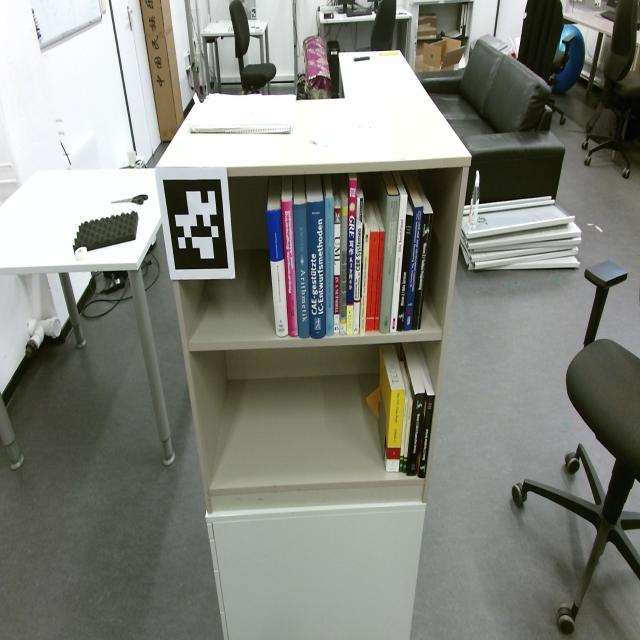Book Spine: (266, 208, 289, 336), (379, 194, 400, 333), (307, 199, 326, 339), (389, 194, 408, 333), (404, 206, 424, 330), (412, 212, 433, 330), (281, 198, 298, 336), (294, 202, 310, 338), (396, 215, 413, 331), (346, 179, 357, 334), (386, 389, 405, 472), (407, 392, 425, 476), (353, 197, 364, 333), (366, 231, 380, 331), (419, 395, 435, 478), (325, 197, 334, 336), (339, 197, 348, 334), (374, 231, 385, 330), (360, 228, 370, 333), (334, 207, 341, 333), (403, 401, 413, 473), (399, 399, 408, 471)
